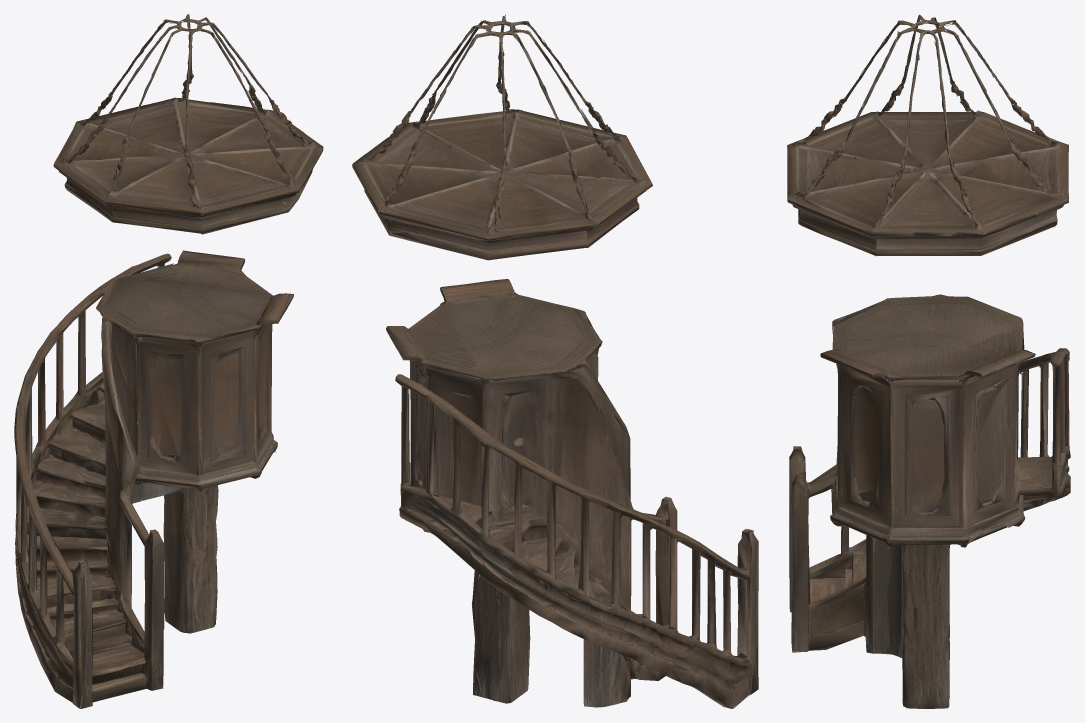
Rendered from meetinghouse-pulpit-soundingboard.glb.
The picture shows the model from 3 angles, left to right: view 1: azimuth 30°, elevation 25°; view 2: azimuth 150°, elevation 25°; view 3: azimuth 270°, elevation 25°; orthographic projection. The views are drawn at different scales.
Visible parts, largest first — view 1: Mesh_0; view 2: Mesh_0; view 3: Mesh_0.
Boxes of the visible parts, box(x1,y1,x2,y2) form: Mesh_0: box(14, 14, 323, 708); Mesh_0: box(352, 14, 758, 708); Mesh_0: box(787, 14, 1070, 708).
Size of the model in its own units: 0.9363 by 1.9 by 0.7255.
Materials: 1 (1 with a texture image).
